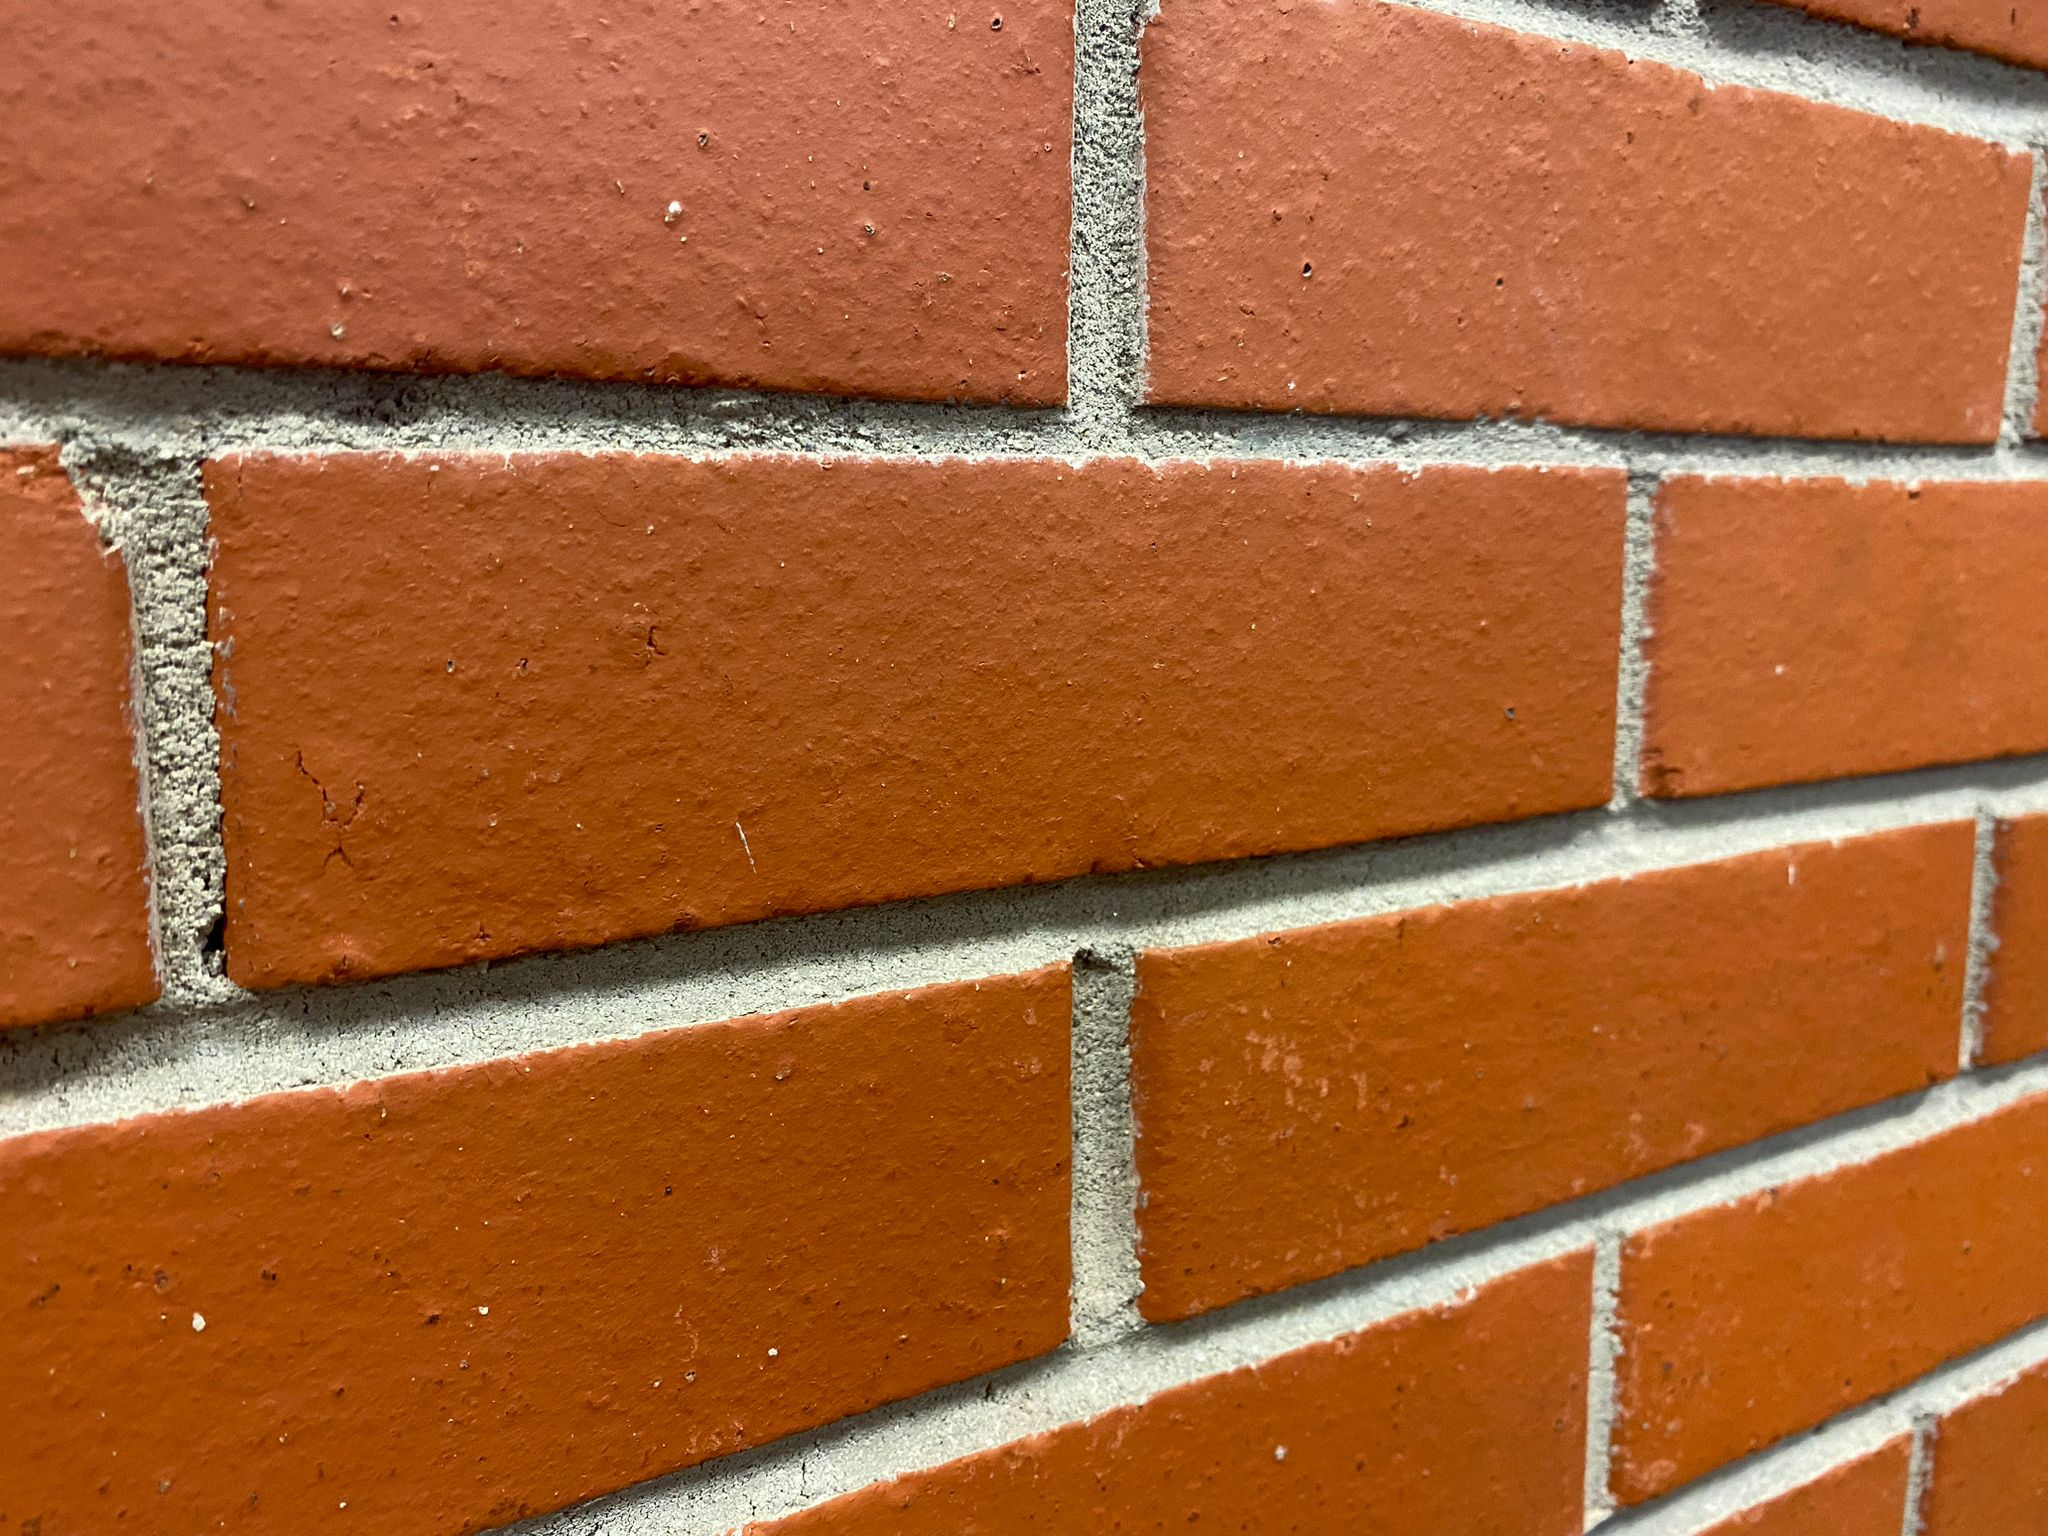redbrick: (161, 360, 1630, 1008), (2, 963, 1100, 1536), (1080, 807, 1988, 1304), (1114, 2, 2025, 447), (1629, 449, 2048, 828)
